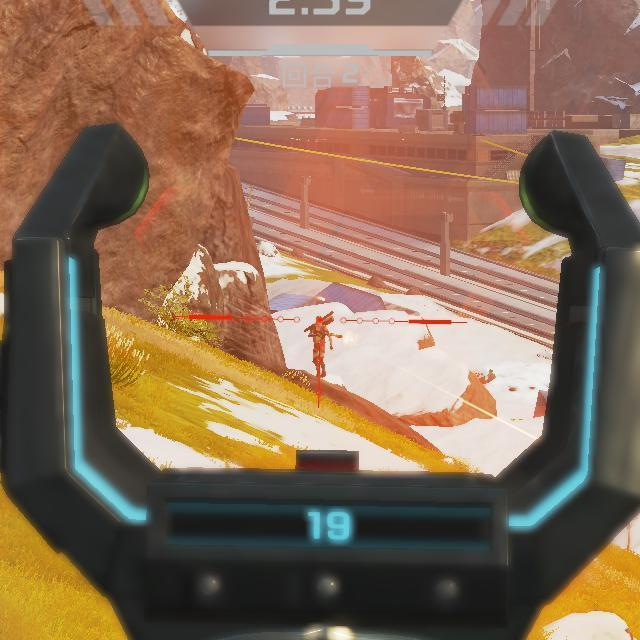avatar: (304, 310, 335, 378)
